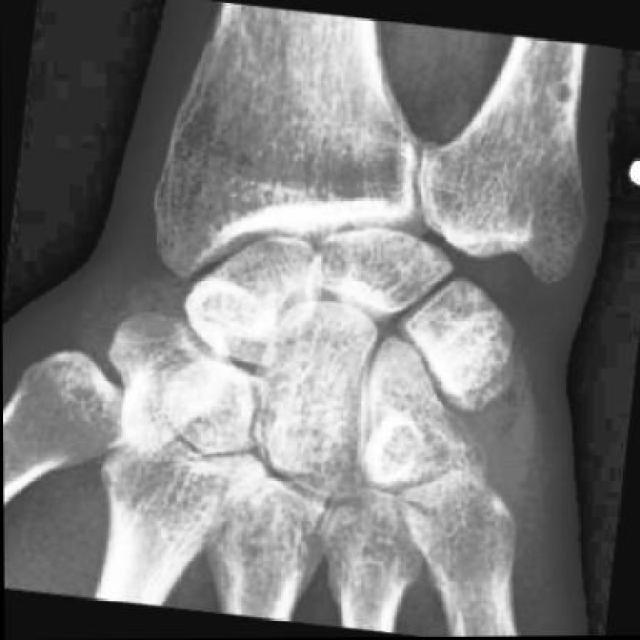Fracture: (372, 405, 499, 512)
